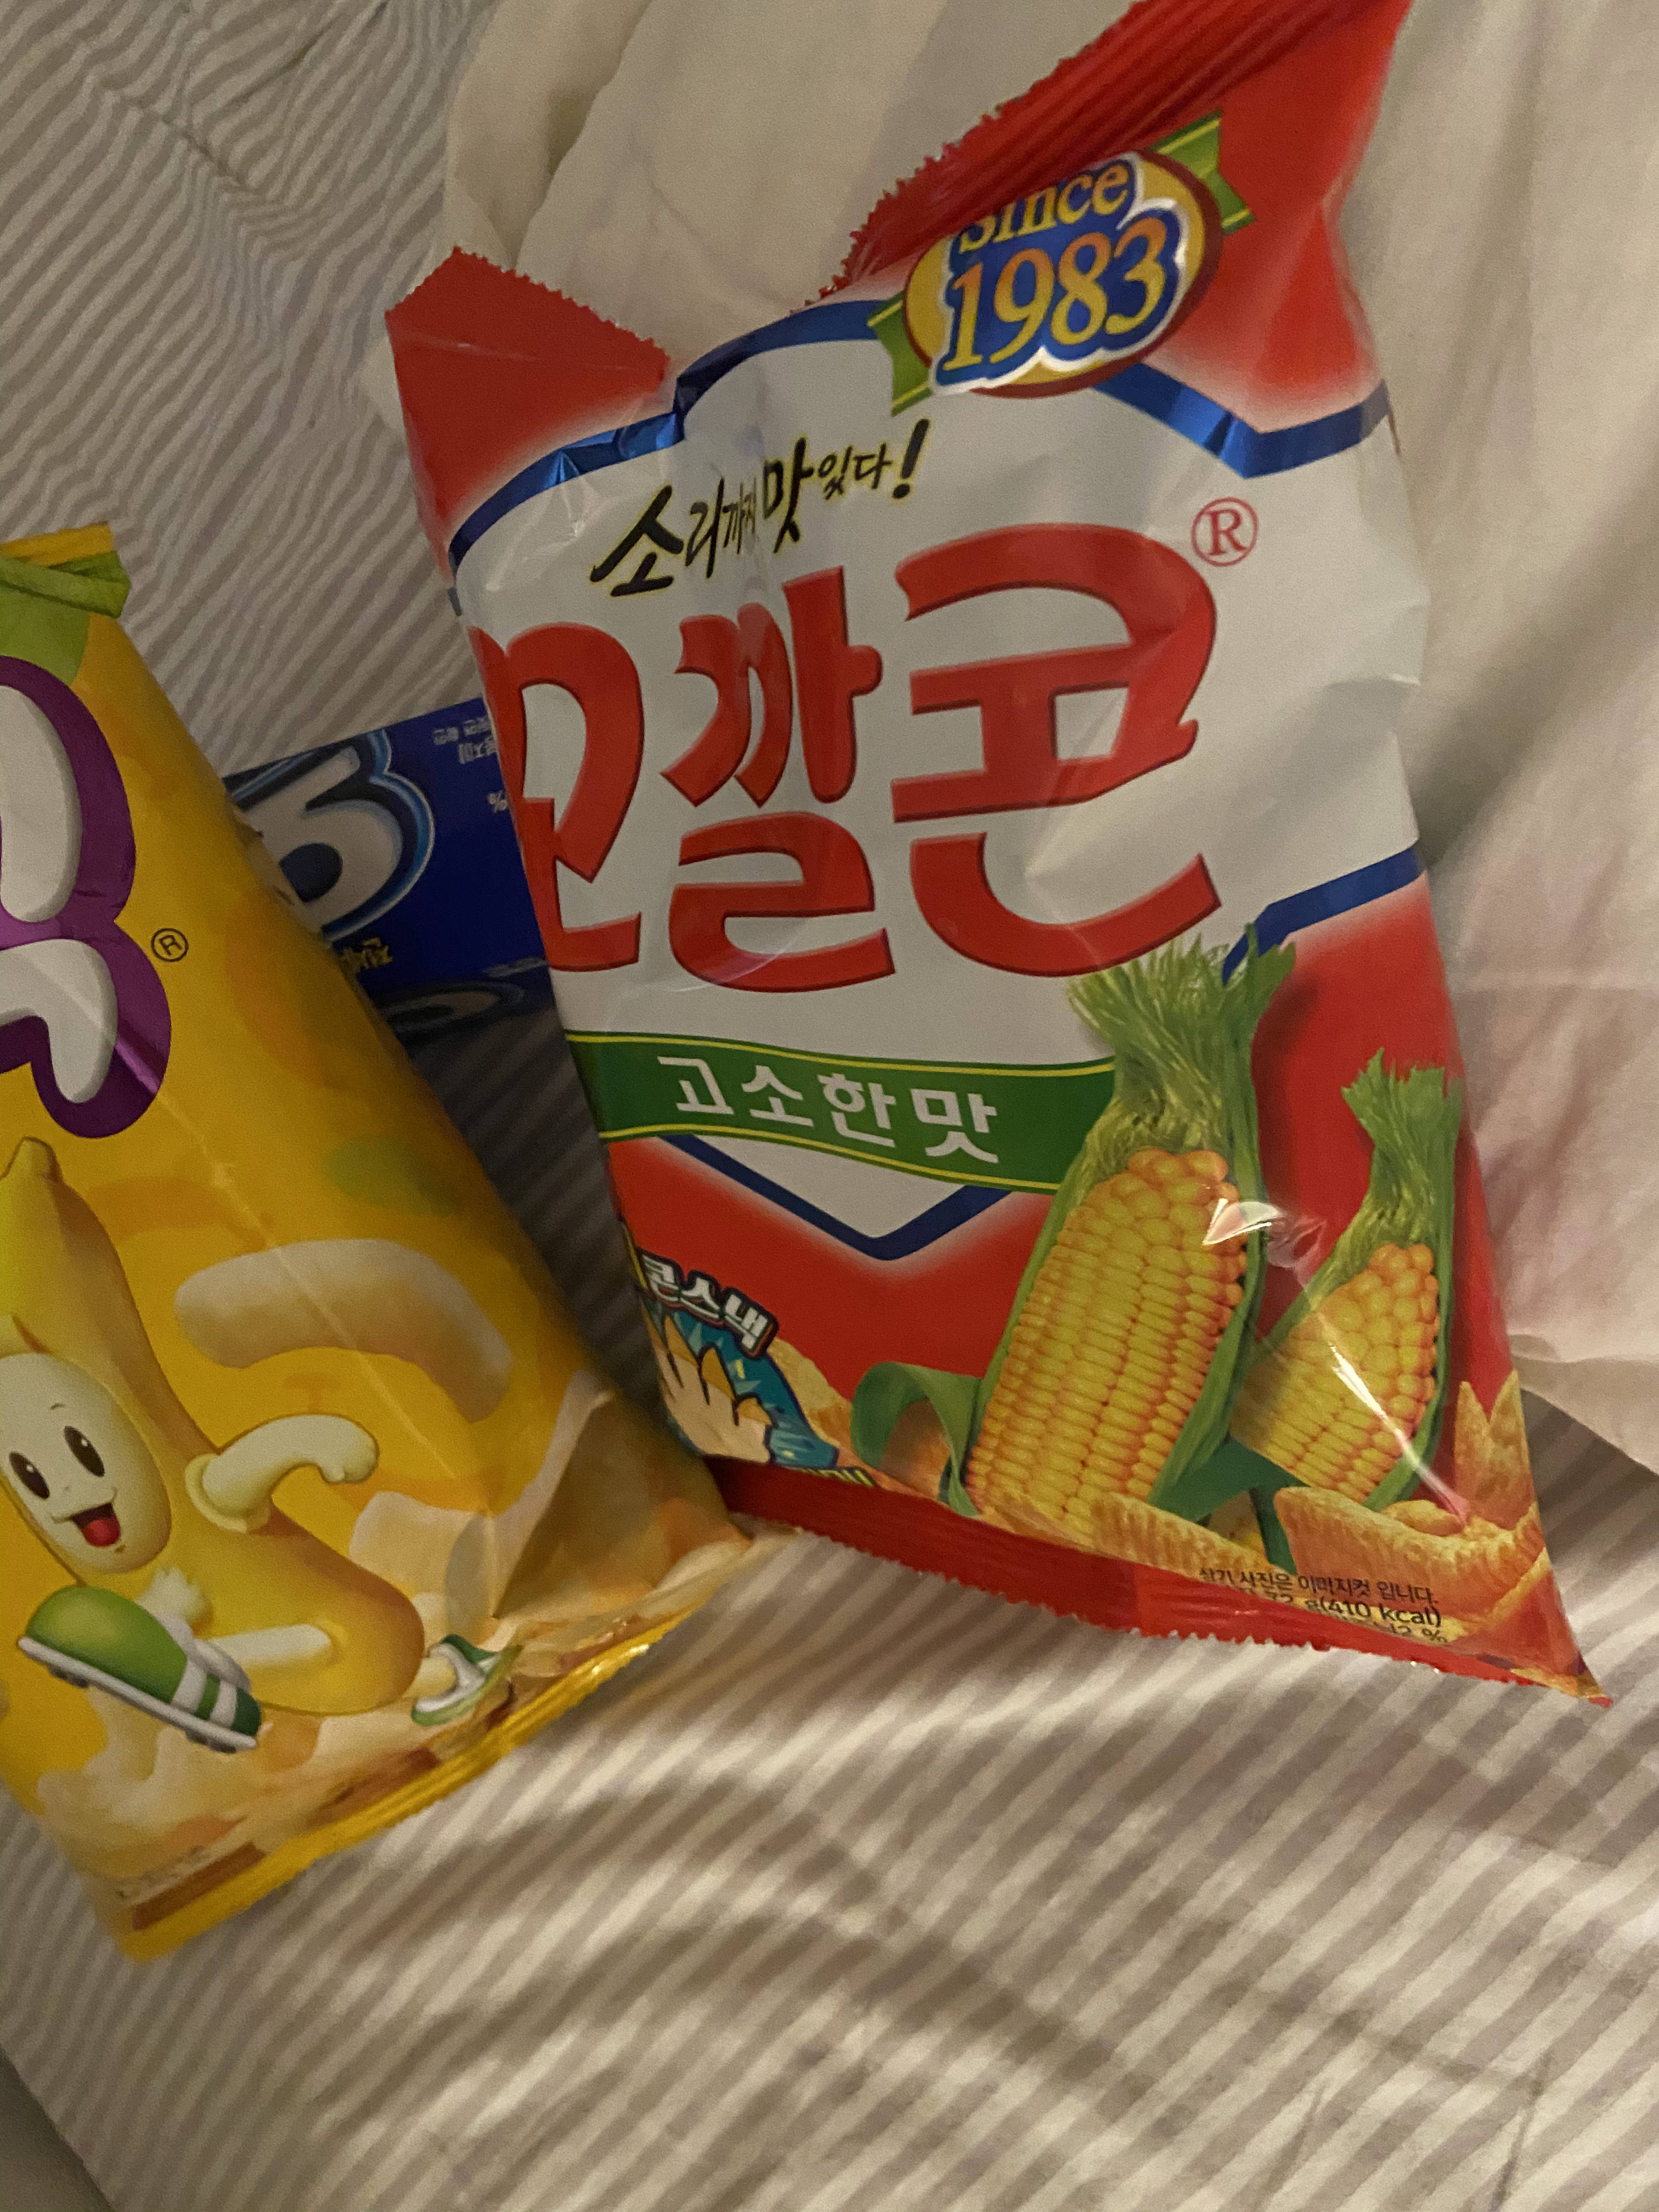banana: (0, 509, 786, 1975)
ggoggalcon: (362, 0, 1624, 1723)
oreo: (190, 672, 598, 1024)
